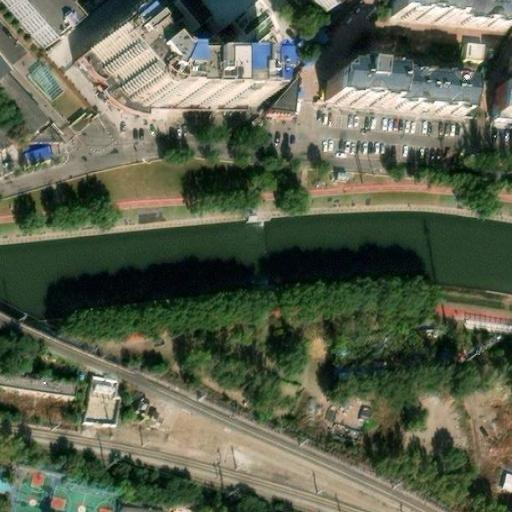building: (71, 23, 242, 104), (381, 76, 460, 116), (4, 0, 69, 46), (107, 15, 169, 63), (0, 75, 41, 142), (0, 365, 77, 399), (319, 71, 384, 109), (438, 297, 512, 328), (256, 67, 299, 113), (444, 0, 499, 22), (383, 0, 445, 19), (86, 372, 118, 397), (487, 90, 512, 121), (118, 500, 171, 512), (23, 146, 47, 164), (498, 467, 512, 489), (504, 57, 512, 72)
